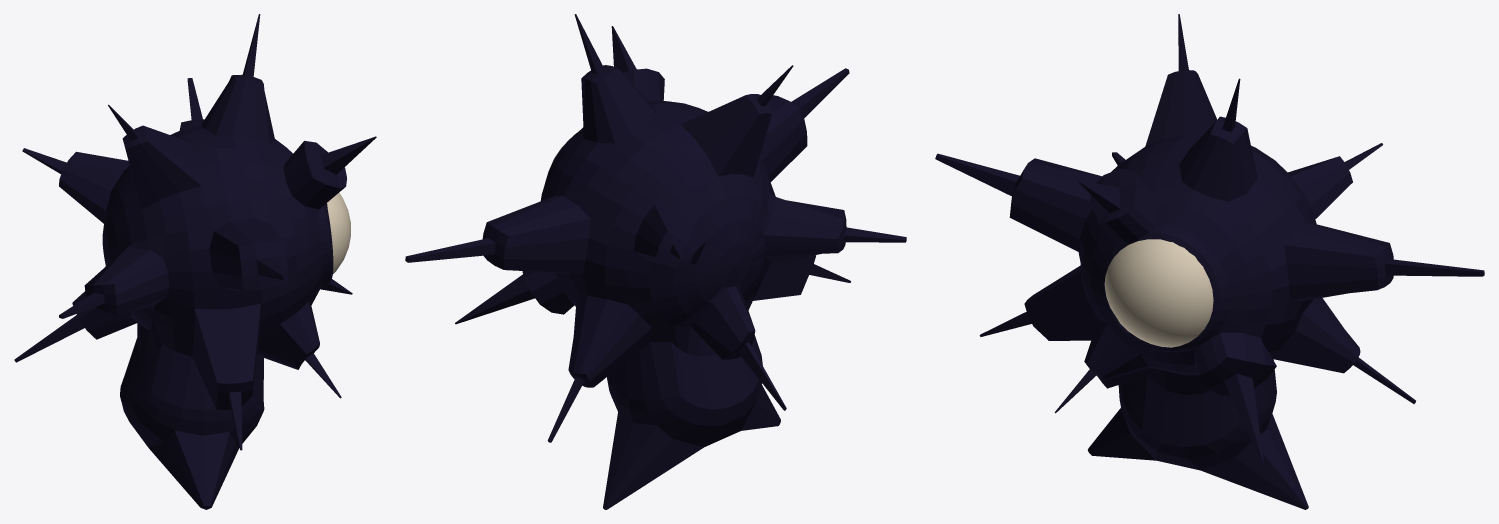
Rendered from Monster Silvan.gltf.
3 views of the same model, side by side, from view 1: azimuth 30°, elevation 25°; view 2: azimuth 150°, elevation 25°; view 3: azimuth 270°, elevation 25° (orthographic). The views are drawn at different scales.
Parts seen in each view (by area): view 1: Monster Silvan; view 2: Monster Silvan; view 3: Monster Silvan.
Part boxes in pixels (box(x1,y1,x2,y2)): Monster Silvan: box(14, 14, 376, 509); Monster Silvan: box(405, 14, 906, 509); Monster Silvan: box(935, 14, 1484, 509).
Size of the model in its own units: 6.15 by 7.08 by 7.64.
2 materials, 1 textured.
